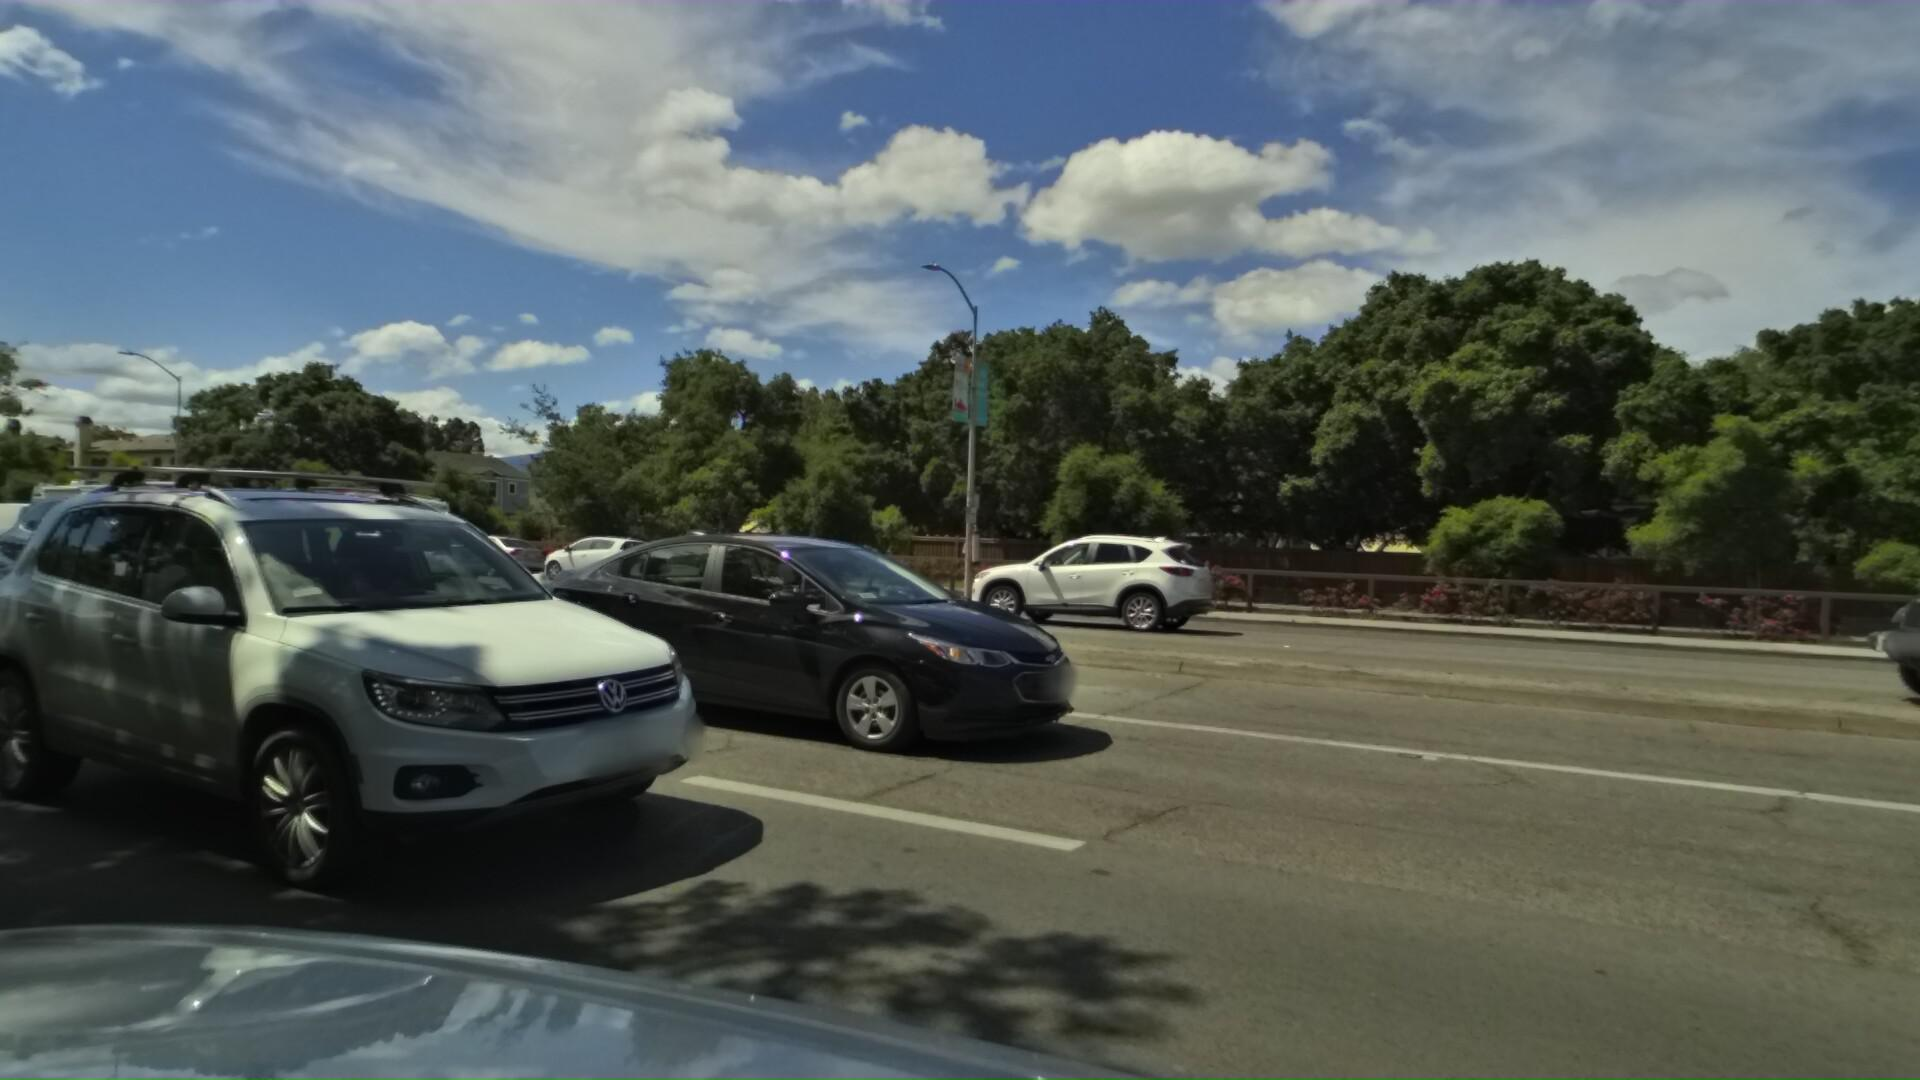bus: (251, 475, 467, 574), (18, 465, 207, 555)
car: (0, 422, 769, 942), (502, 520, 1106, 777), (0, 477, 315, 644), (1774, 512, 1920, 754), (919, 522, 1192, 632), (0, 463, 59, 698), (535, 530, 665, 585), (430, 527, 553, 578), (0, 497, 76, 554)
